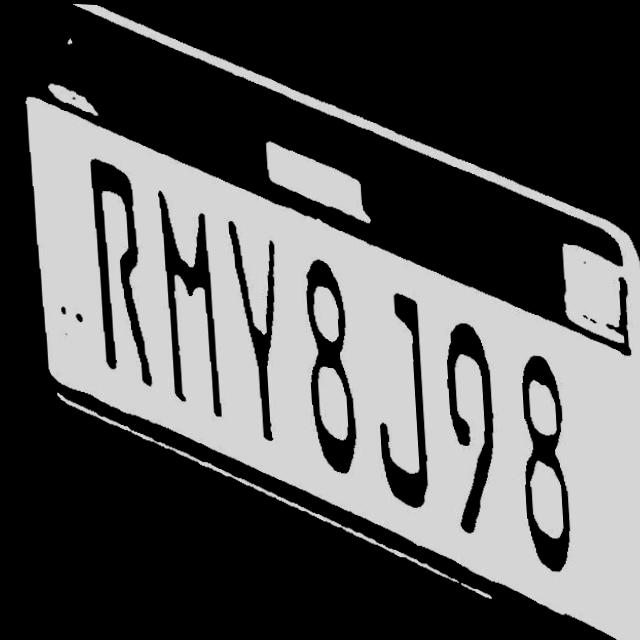8: (522, 348, 590, 586), (303, 249, 369, 489)
9: (436, 317, 514, 545)
j: (366, 285, 445, 514)
m: (154, 179, 236, 432)
r: (86, 151, 165, 397)
y: (231, 216, 303, 454)
